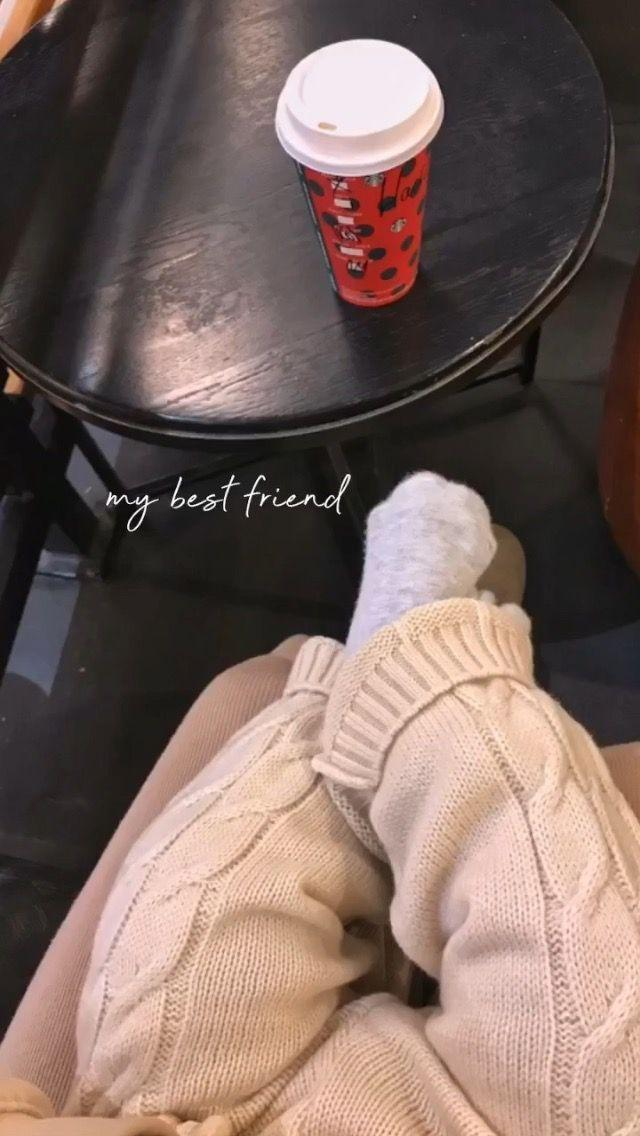cup-disposable: (273, 37, 445, 309)
